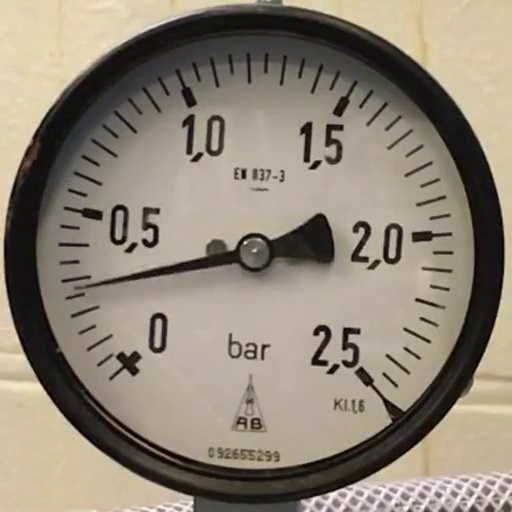base: (236, 233, 273, 272)
circle_plate: (36, 36, 470, 465)
maximum: (353, 365, 374, 387)
minimum: (115, 348, 142, 376)
number: (350, 219, 403, 270), (310, 324, 361, 375), (107, 204, 161, 252), (298, 119, 345, 169), (181, 112, 227, 163), (146, 310, 168, 356)
tip: (72, 283, 82, 293)
